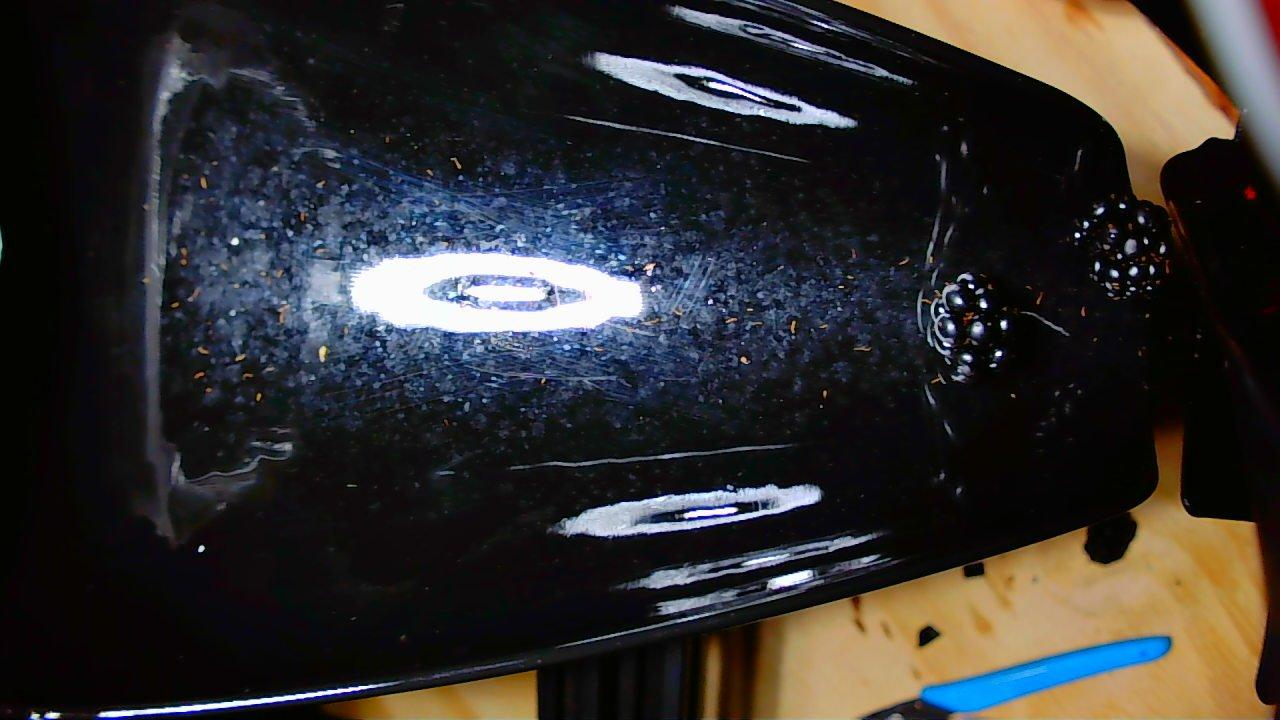berry: (1074, 195, 1169, 298), (927, 272, 1016, 381)
